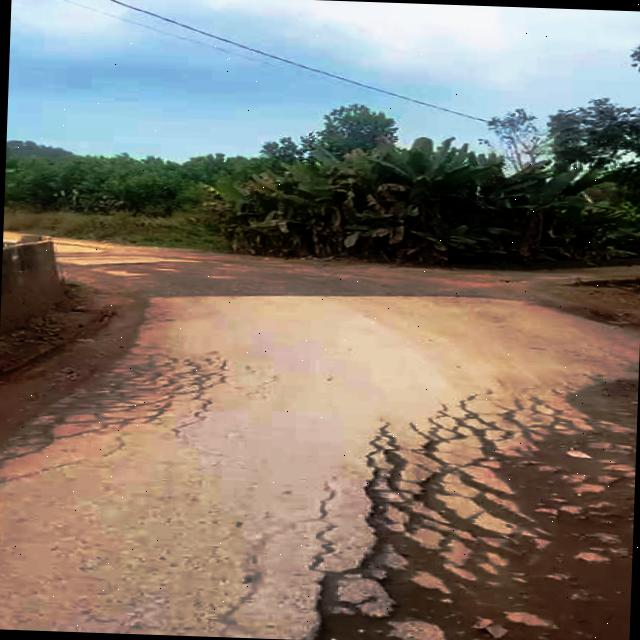pothole: (234, 341, 639, 640)
